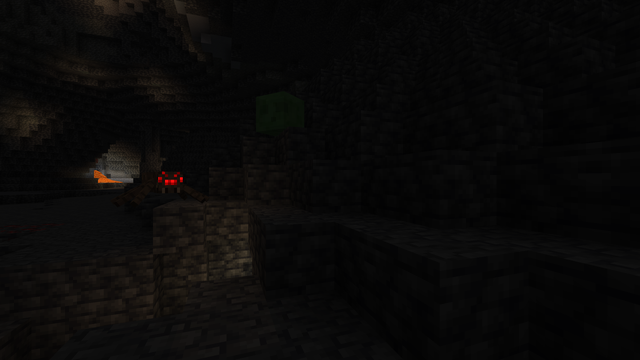araignees: (119, 167, 196, 208)
slimes: (260, 89, 302, 135)
